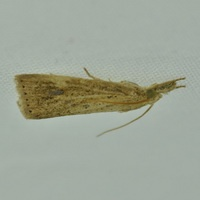insect: (15, 69, 184, 118)
